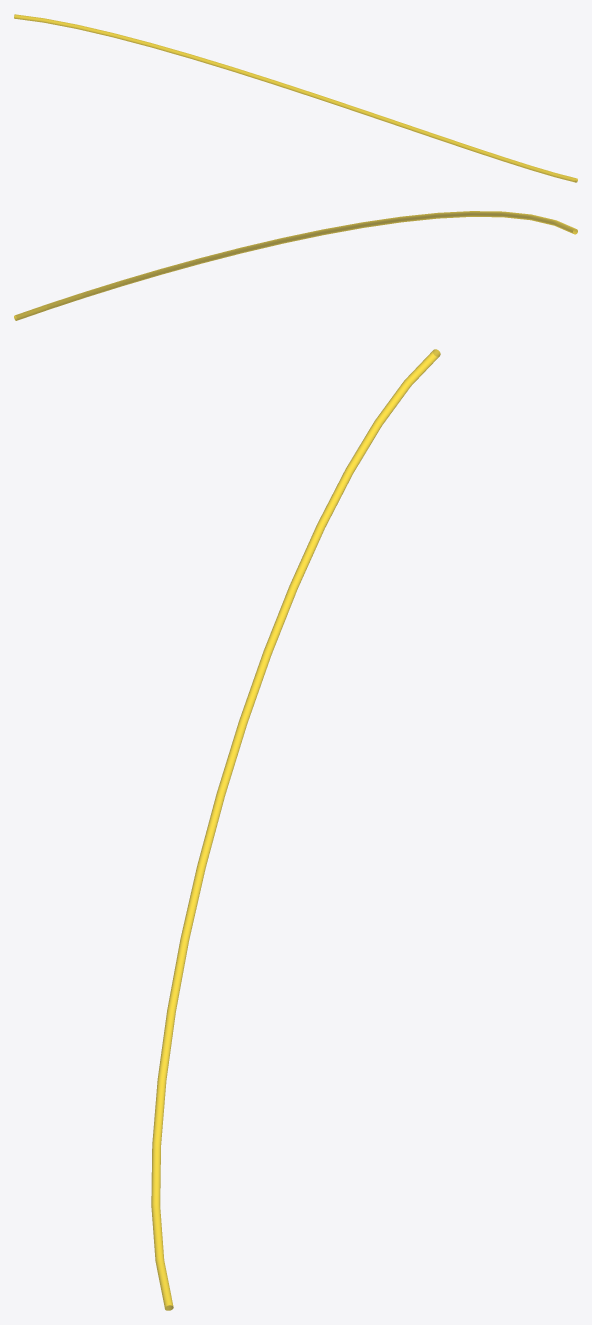
File: Event_100608114_track_11.fbx
The picture shows the model from 3 angles, top to bottom: view 1: azimuth 30°, elevation 25°; view 2: azimuth 150°, elevation 25°; view 3: azimuth 270°, elevation 25°; orthographic projection. The views are drawn at different scales.
Visible parts, largest first — view 1: Model; view 2: Model; view 3: Model.
Boxes of the visible parts, bbox=[...] form: Model: bbox=[14, 14, 577, 182]; Model: bbox=[14, 211, 577, 320]; Model: bbox=[151, 349, 440, 1310].
Bounding box in the file's own units: 5.16 × 2.38 × 1.3.
